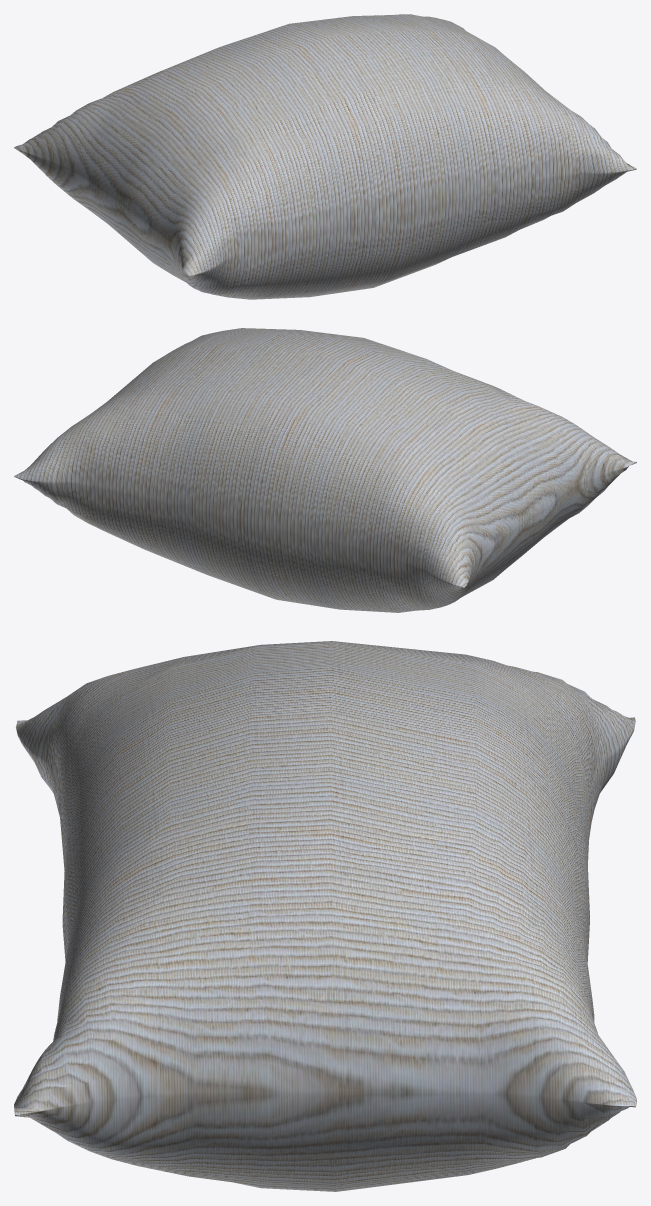
The model's file is YGB0110050.fbx.
3 views of the same model, one above another, from view 1: azimuth 30°, elevation 25°; view 2: azimuth 150°, elevation 25°; view 3: azimuth 270°, elevation 25° (orthographic). The views are drawn at different scales.
Parts seen in each view (by area): view 1: smYGB0110050; view 2: smYGB0110050; view 3: smYGB0110050.
Boxes of the visible parts, <box> form: smYGB0110050: <box>14,14,636,299</box>; smYGB0110050: <box>14,328,636,612</box>; smYGB0110050: <box>14,641,636,1191</box>.
Bounding box in the file's own units: 152 × 75.72 × 102.
Materials: 1 (1 with a texture image).
